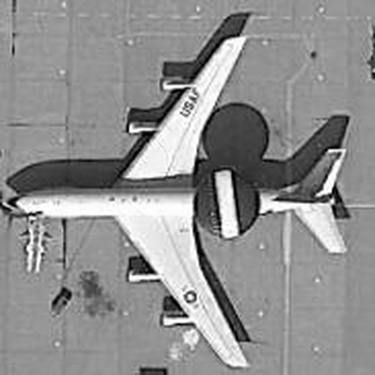airplane: (4, 21, 365, 370)
